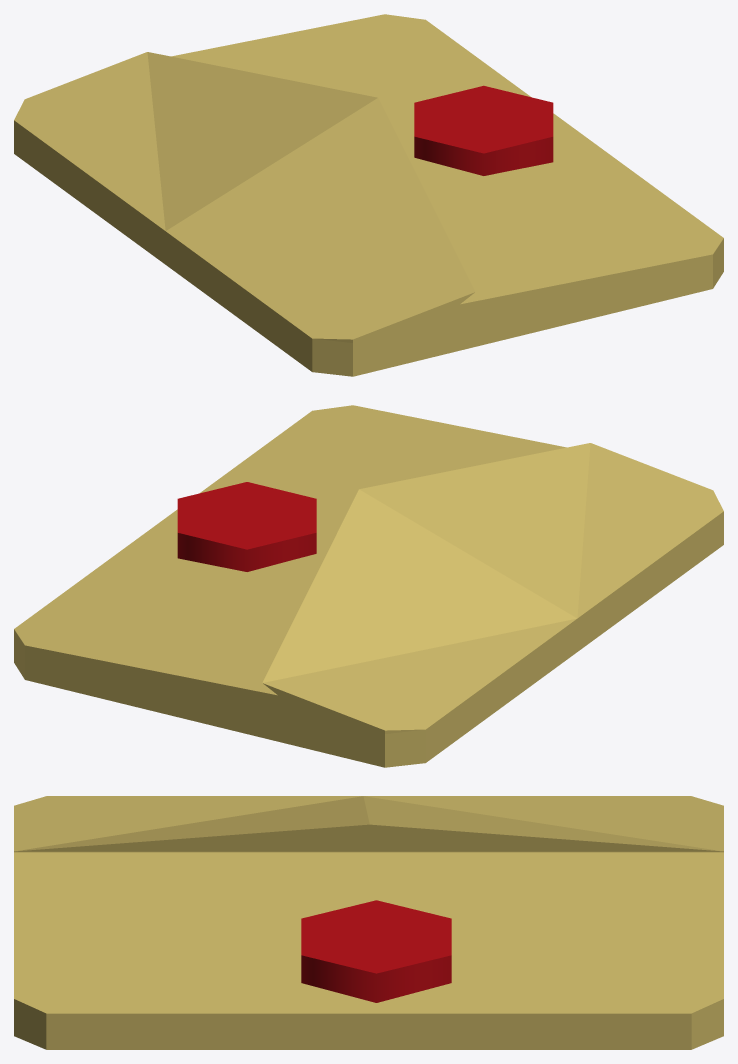
File: Letter.FBX
3 renders of one model, top to bottom at view 1: azimuth 30°, elevation 25°; view 2: azimuth 150°, elevation 25°; view 3: azimuth 270°, elevation 25°, orthographic. The views are drawn at different scales.
Visible parts, largest first — view 1: letter001; view 2: letter001; view 3: letter001.
Part boxes in pixels (<box>): letter001: <box>14,14,723,376</box>; letter001: <box>14,405,723,767</box>; letter001: <box>14,796,723,1049</box>.
Size of the model in its own units: 2.61 by 0.6814 by 3.61.
